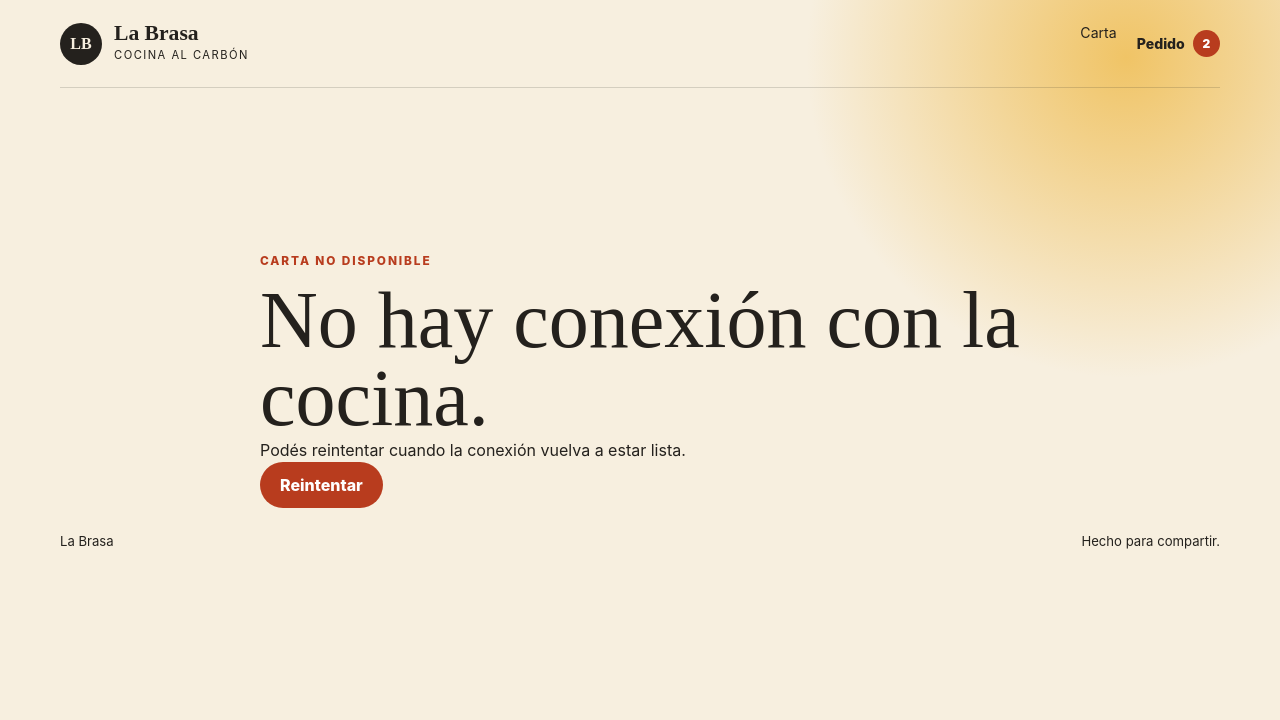
Test: cart and checkout › keeps saved cart count and unavailable language while the catalog is unavailable
Click the button with aria-label "Abrir pedido, 2 productos". click: (1178, 44)
box: [1137, 22, 1220, 66]
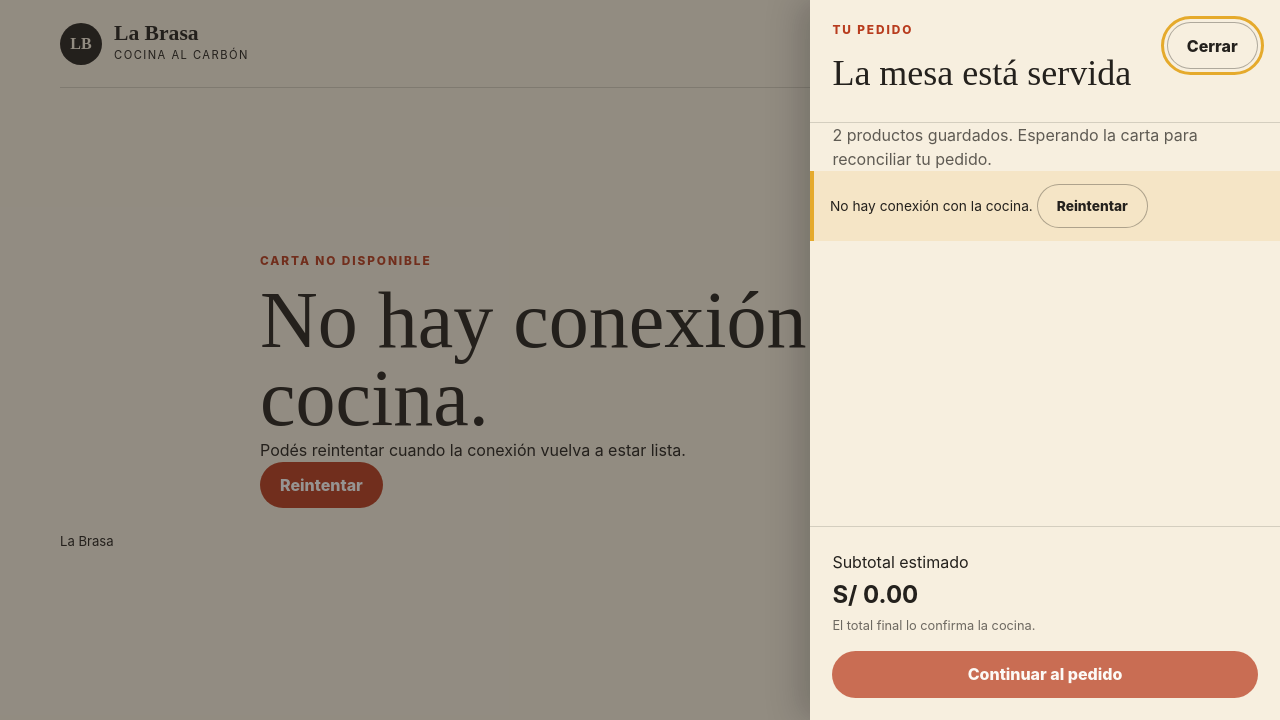
expect the text "2 productos guardados" is shown: met, box [832, 125, 1198, 169]
expect the button "Reintentar" is shown: met, box [1037, 184, 1148, 228]
